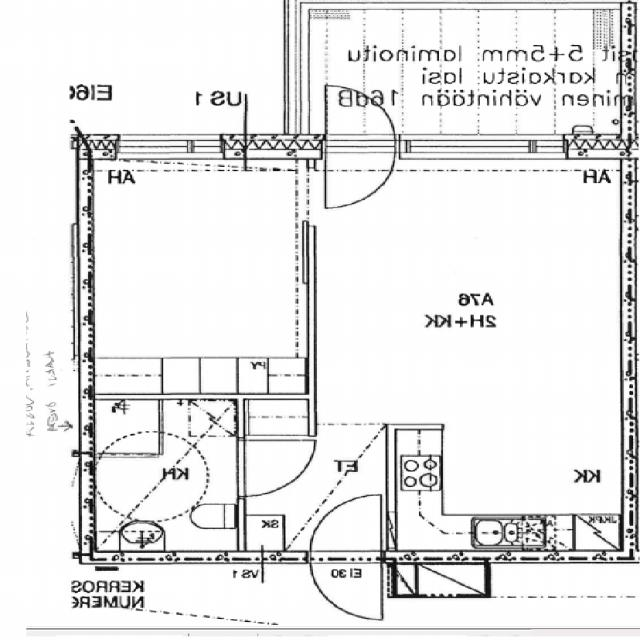door: (325, 79, 396, 159), (325, 134, 396, 214), (311, 550, 382, 618), (311, 496, 382, 562), (237, 441, 317, 496)
